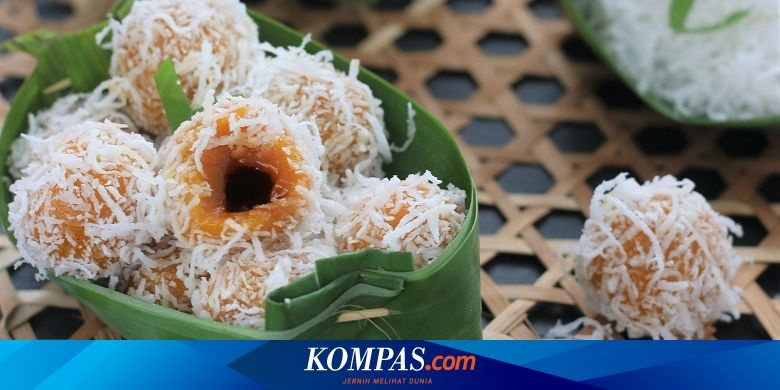klepon: (133, 96, 326, 248), (579, 159, 740, 320)
